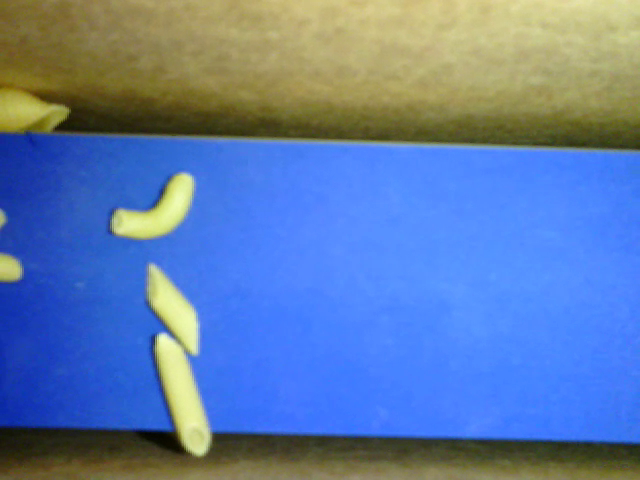elbow: (108, 169, 196, 240), (1, 205, 22, 283)
penne: (154, 331, 210, 456), (147, 263, 199, 356)
shell: (1, 89, 72, 133)
